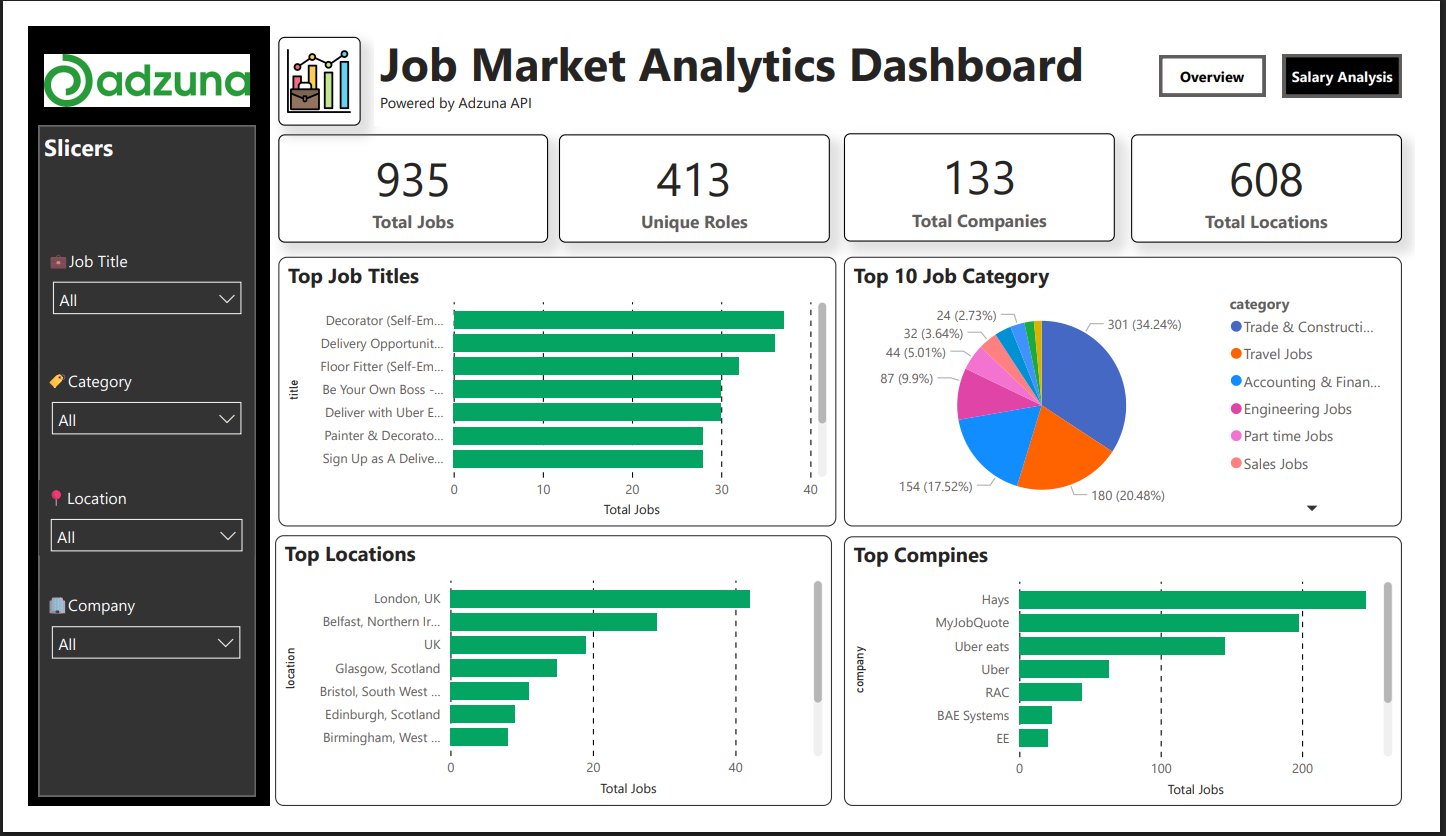

Layout of this report page (visuals, bound fields, positions):
{"tool":"powerbi","page":{"name":"Overview","canvas":[1280,720],"ordinal":0},"visuals":[{"type":"group","id":"g1","title":"Group 4","box":[0,0,222.3,720.4],"z":0},{"type":"shape","box":[0,0,223,720],"z":0,"group":"g3"},{"type":"shape","box":[9.6,91.9,200.3,618.9],"z":1000,"group":"g3"},{"type":"card","fields":{"Values":["public jobs.Total Jobs"]},"box":[230.5,100.2,249.7,100.2],"z":1000},{"type":"group","id":"g2","title":"Group 3","box":[0,0,223,720],"z":1500,"group":"g1"},{"type":"group","id":"g3","title":"Group 2","box":[0,0,223,720],"z":1500,"group":"g2"},{"type":"group","id":"g4","title":"Group 1","box":[10.1,200.3,199,386.5],"z":1750,"group":"g2"},{"type":"card","fields":{"Values":["public jobs.Unique Roles"]},"box":[489.9,100.2,250,100.2],"z":2000},{"type":"card","fields":{"Values":["public jobs.Total Locations"]},"box":[1018.2,100.2,250,100.2],"z":3000},{"type":"card","fields":{"Values":["public jobs.Total Companies"]},"box":[753.3,98.8,250,100.2],"z":4000},{"type":"clusteredBarChart","title":"Top Locations","fields":{"Category":["public jobs.location"],"Y":["public jobs.Total Jobs"]},"box":[227.8,470.2,514.6,249.7],"z":5000},{"type":"clusteredBarChart","title":"Top Job Titles","fields":{"Category":["public jobs.title"],"Y":["public jobs.Total Jobs"]},"box":[230.5,212.7,515,249.7],"z":6000},{"type":"pieChart","title":"Top 10 Job Category","fields":{"Category":["public jobs.category"],"Y":["public jobs.Total Jobs"]},"box":[753.3,212.7,515,249.7],"z":7000},{"type":"clusteredBarChart","title":"Top Compines","fields":{"Category":["public jobs.company"],"Y":["public jobs.Total Jobs"]},"box":[753.3,470.7,515,249.7],"z":8000},{"type":"image","box":[230.5,9.6,76.8,82.3],"z":8001},{"type":"textbox","box":[319.7,0,698.5,91.9],"z":8003},{"type":"actionButton","box":[1042.9,26.1,100.2,39.8],"z":8004},{"type":"actionButton","box":[1158.2,26.1,109.8,39.8],"z":8005},{"type":"image","box":[9.6,0,199,100.2],"z":8006},{"type":"slicer","title":"📍Location","fields":{"Values":["public jobs.location"]},"box":[10.1,419.4,199,70],"z":9000,"group":"g4"},{"type":"slicer","title":"🏢Company","fields":{"Values":["public jobs.company"]},"box":[11.3,518.2,196.2,68.6],"z":10000,"group":"g4"},{"type":"slicer","title":"🏷️Category","fields":{"Values":["public jobs.category"]},"box":[11.5,311,196.2,68.6],"z":11000,"group":"g4"},{"type":"textbox","box":[9.6,91.9,104.3,56.3],"z":12000,"group":"g1"},{"type":"slicer","title":"💼Job Title","fields":{"Values":["public jobs.title"]},"box":[12.3,200.3,195.8,68.5],"z":12000,"group":"g4"}]}

Visuals, with their boxes in screenshot pixels (x1, y1, x2, y2), scaled from the page's 1280x720 canvas onto the 1446x836 screenshot:
"Group 4" group: bbox(0, 0, 251, 835)
shape: bbox(0, 0, 252, 835)
shape: bbox(11, 107, 237, 825)
card - public jobs.Total Jobs: bbox(260, 116, 542, 233)
"Group 3" group: bbox(0, 0, 252, 835)
"Group 2" group: bbox(0, 0, 252, 835)
"Group 1" group: bbox(11, 233, 236, 681)
card - public jobs.Unique Roles: bbox(553, 116, 836, 233)
card - public jobs.Total Locations: bbox(1150, 116, 1433, 233)
card - public jobs.Total Companies: bbox(851, 115, 1133, 231)
"Top Locations" clusteredBarChart: bbox(257, 546, 839, 835)
"Top Job Titles" clusteredBarChart: bbox(260, 247, 842, 537)
"Top 10 Job Category" pieChart: bbox(851, 247, 1433, 537)
"Top Compines" clusteredBarChart: bbox(851, 547, 1433, 835)
image: bbox(260, 11, 347, 107)
textbox: bbox(361, 0, 1150, 107)
actionButton: bbox(1178, 30, 1291, 77)
actionButton: bbox(1308, 30, 1432, 77)
image: bbox(11, 0, 236, 116)
"📍Location" slicer: bbox(11, 487, 236, 568)
"🏢Company" slicer: bbox(13, 602, 234, 681)
"🏷️Category" slicer: bbox(13, 361, 235, 441)
textbox: bbox(11, 107, 129, 172)
"💼Job Title" slicer: bbox(14, 233, 235, 312)
